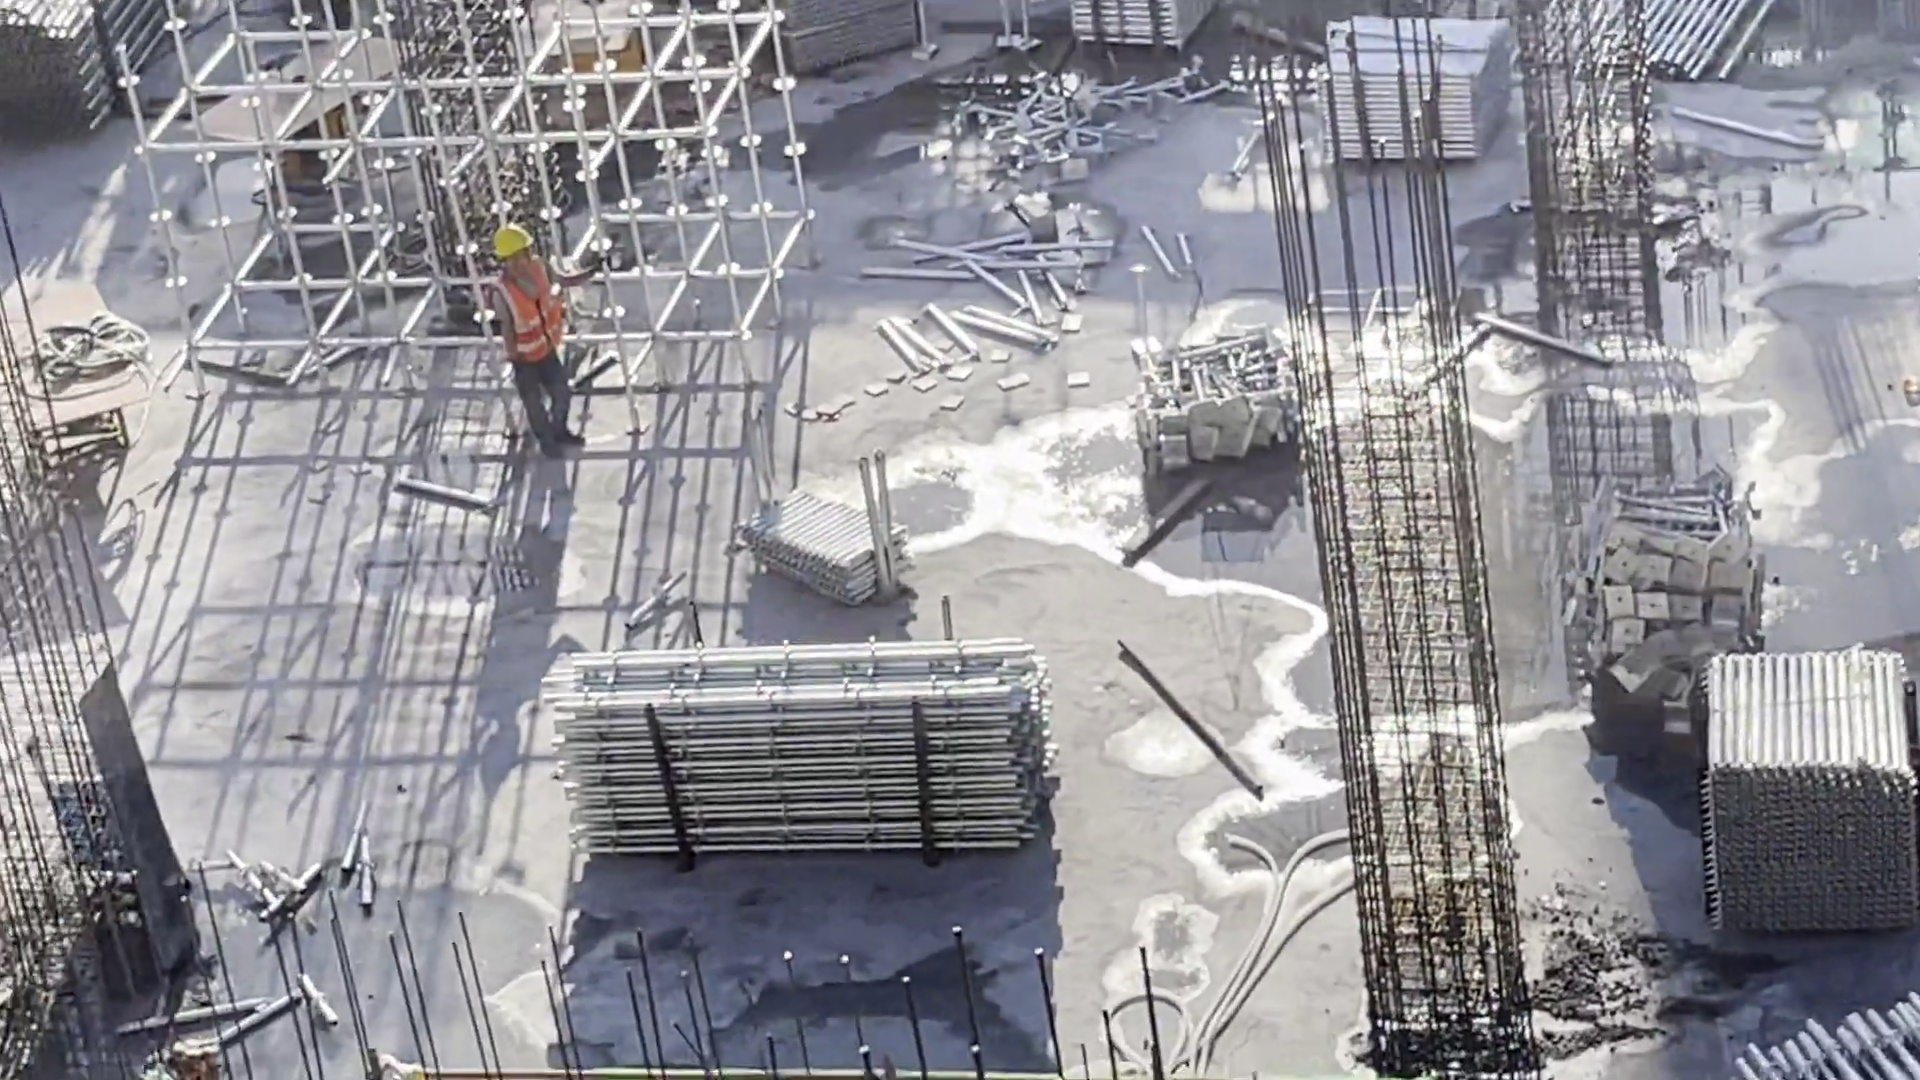cutter: (195, 8, 425, 174), (1, 252, 174, 462), (489, 1, 684, 117)
helmet: (488, 227, 536, 263)
person: (484, 220, 580, 461)
scaffold: (538, 636, 1062, 855), (1701, 647, 1920, 921), (1566, 470, 1775, 714), (1325, 13, 1497, 181), (1128, 350, 1314, 480), (747, 483, 918, 604), (1723, 984, 1919, 1080), (1062, 1, 1244, 68)
vest: (499, 270, 575, 373)
